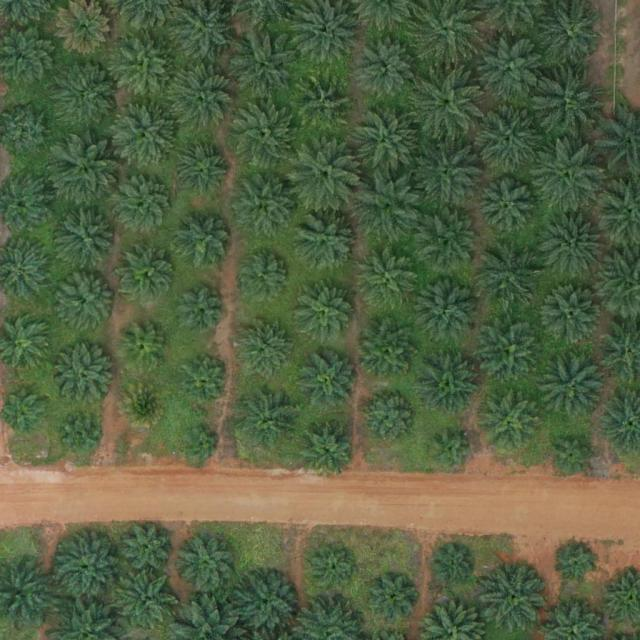Healthy: (534, 141, 604, 212), (536, 70, 606, 141), (412, 70, 483, 140), (412, 135, 482, 206), (351, 104, 422, 174), (355, 170, 425, 241), (228, 100, 298, 171), (474, 107, 544, 177), (291, 139, 361, 209), (476, 35, 546, 105), (231, 30, 301, 100), (54, 140, 124, 210), (417, 279, 480, 342), (359, 247, 422, 310), (295, 211, 358, 274), (170, 64, 233, 127), (54, 534, 117, 597), (485, 566, 548, 629), (541, 2, 603, 65), (541, 214, 603, 277), (542, 285, 604, 348), (542, 353, 604, 416), (479, 243, 541, 306), (480, 321, 542, 384), (480, 391, 542, 454), (421, 211, 483, 274), (418, 355, 480, 418), (359, 320, 421, 383), (295, 283, 357, 346), (235, 176, 297, 239), (238, 387, 300, 450), (115, 34, 177, 97), (114, 104, 177, 166), (58, 63, 120, 126), (54, 345, 117, 407), (297, 419, 359, 481), (113, 173, 175, 235), (57, 271, 119, 333), (116, 570, 178, 632), (235, 574, 297, 636), (363, 391, 418, 446), (298, 77, 353, 132), (173, 142, 228, 197), (177, 216, 232, 271), (360, 41, 415, 96), (121, 248, 176, 303), (61, 211, 116, 266), (178, 537, 233, 592), (480, 181, 534, 236), (303, 354, 357, 409), (237, 248, 291, 303), (238, 318, 292, 373), (120, 521, 174, 576), (182, 356, 229, 404)
Small: (121, 326, 168, 374), (311, 547, 358, 595), (58, 412, 105, 460), (177, 288, 224, 335), (371, 575, 418, 622), (551, 433, 598, 480), (429, 428, 476, 475), (2, 387, 49, 434), (434, 546, 474, 585), (183, 427, 222, 466), (559, 545, 598, 584)
Yellow: (122, 382, 169, 429)
